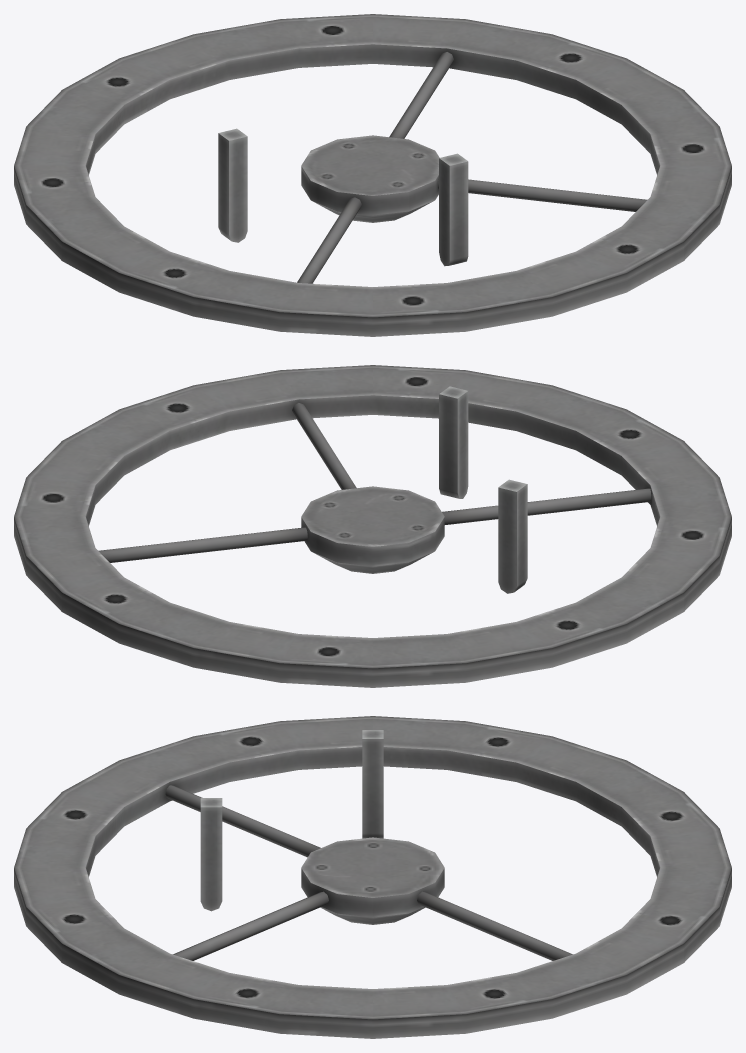
The model's file is black_anvil_engine_s1_1_base.obj.
The picture shows the model from 3 angles, top to bottom: view 1: azimuth 30°, elevation 25°; view 2: azimuth 150°, elevation 25°; view 3: azimuth 270°, elevation 25°; orthographic projection.
Visible parts, largest first — view 1: base1; view 2: base1; view 3: base1.
Boxes of the visible parts, x1,y1,x2,y2 form: base1: (14, 14, 731, 336); base1: (14, 365, 731, 687); base1: (14, 716, 731, 1038).
Size of the model in its own units: 1.25 by 0.2 by 1.25.
1 material, 1 textured.
